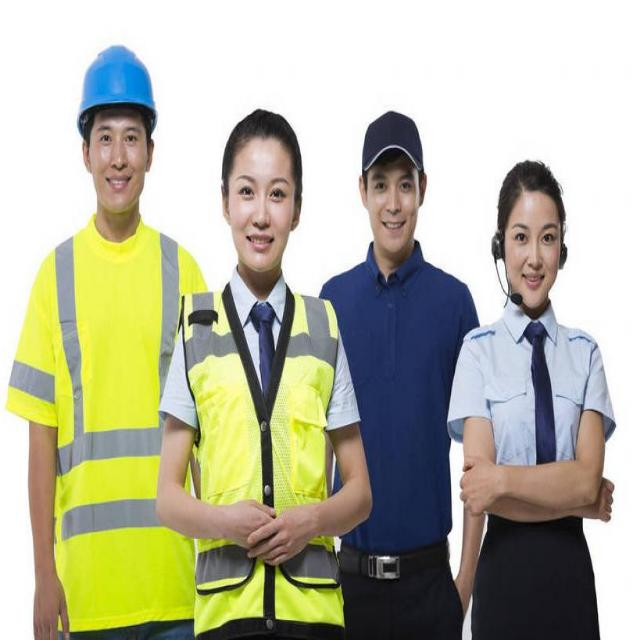Reflective-Jacket: (7, 218, 206, 630), (177, 282, 348, 633)
Safety-Helmet: (73, 41, 162, 127)
